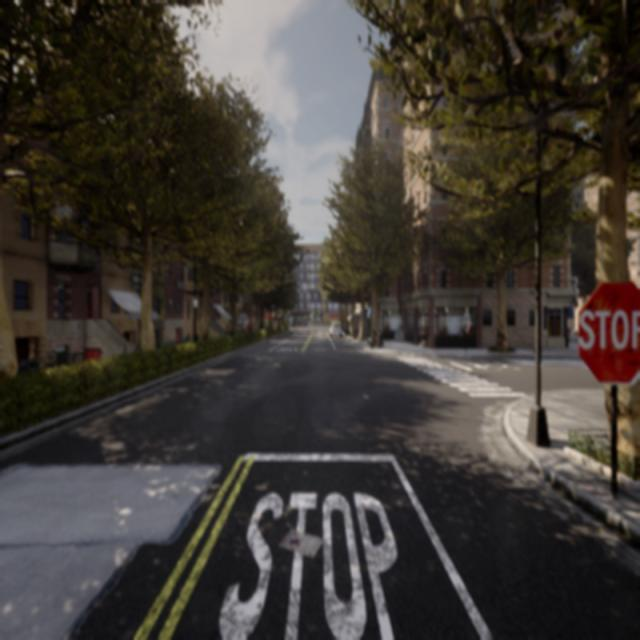stop sign: (574, 276, 639, 388), (578, 305, 640, 353)
